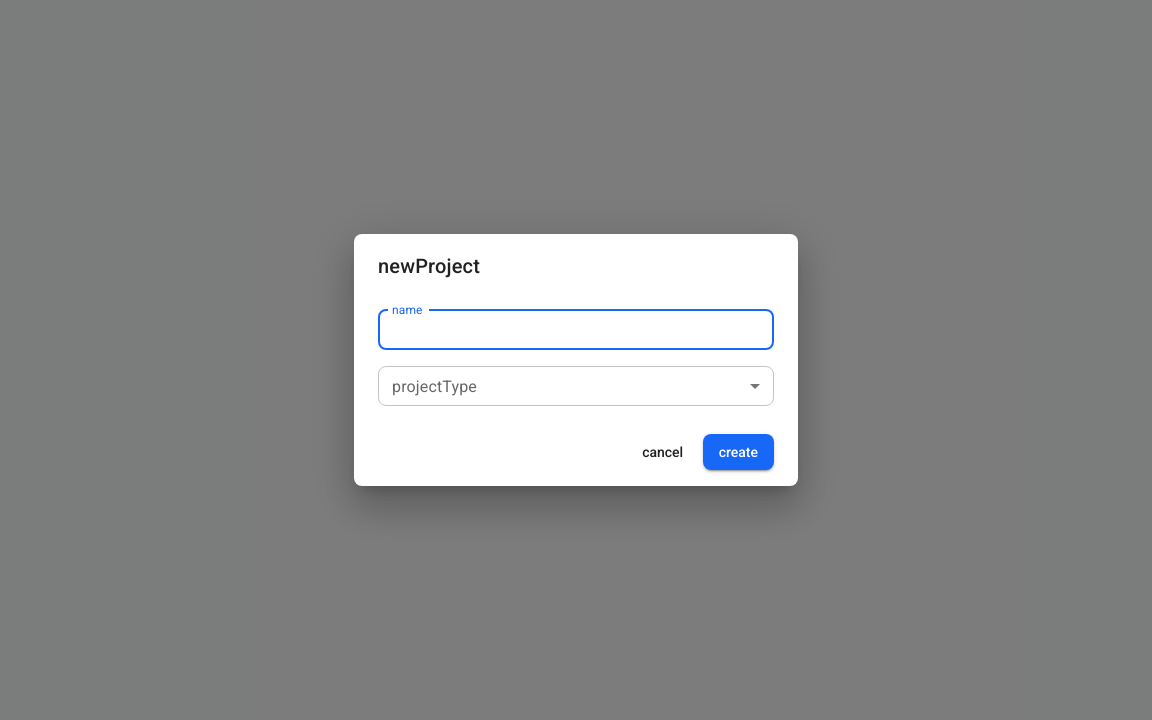
Scenario: CreateProjectDialog › on success: refreshes the orgs, selects the project, navigates and closes
Type "Shop" into the field labelled "name" at (576, 330), box [378,310,774,350]
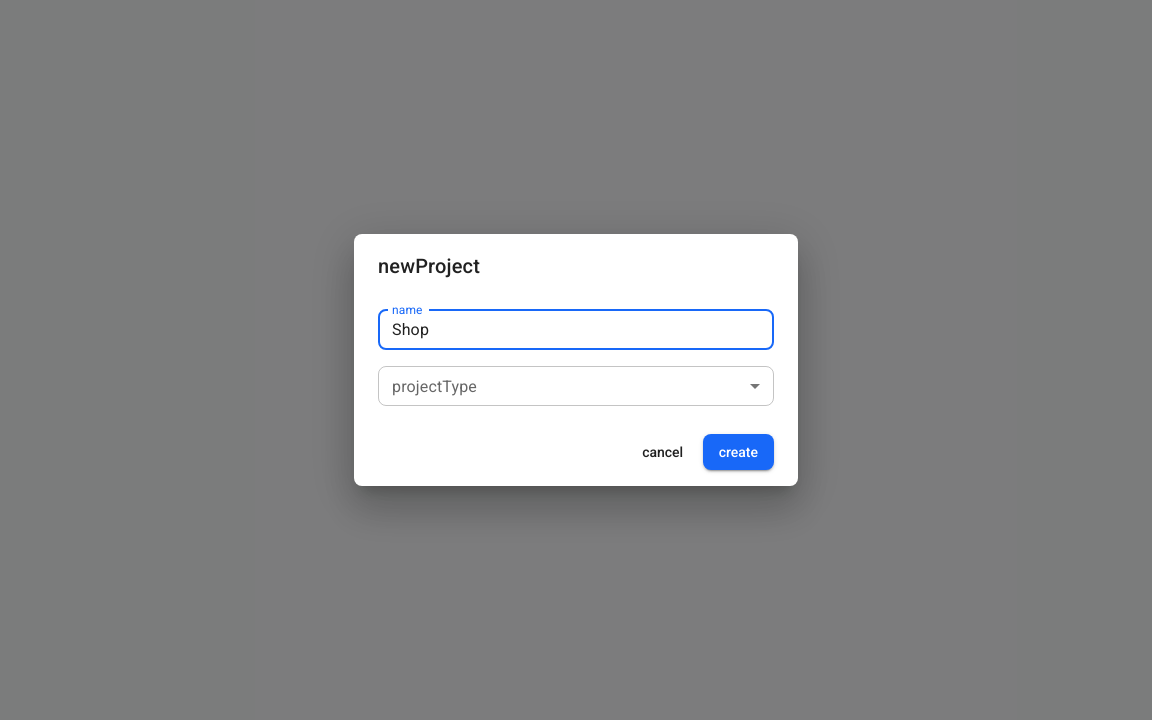
Press the mouse on the dropdown at (576, 386), box [378,366,774,406]
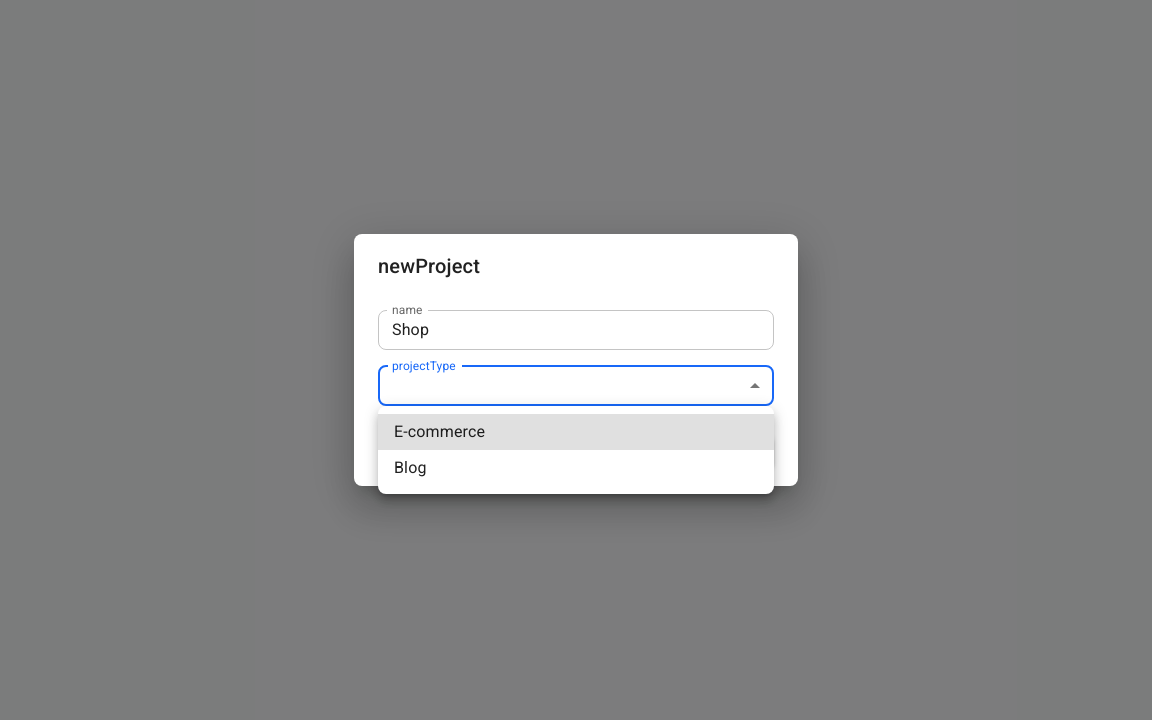
Click the option "Blog" at (410, 468), box [394,458,427,477]
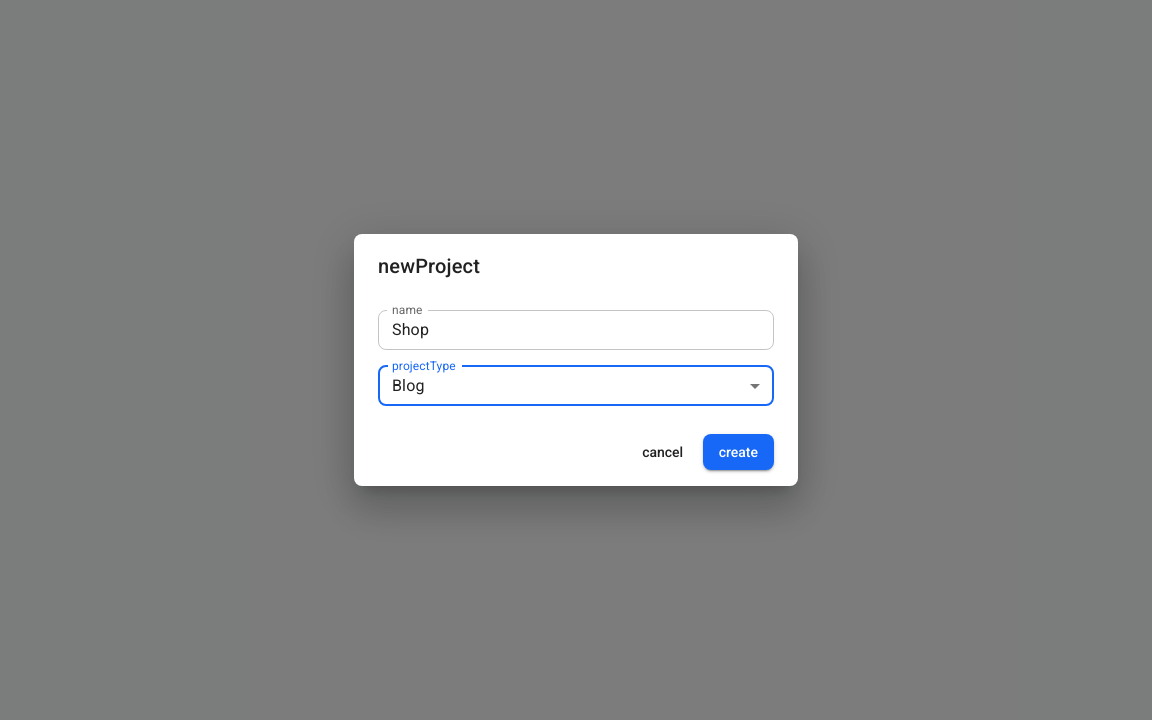
Submit the form "newProject name projectType Blog cancel create", box [354,234,798,486]
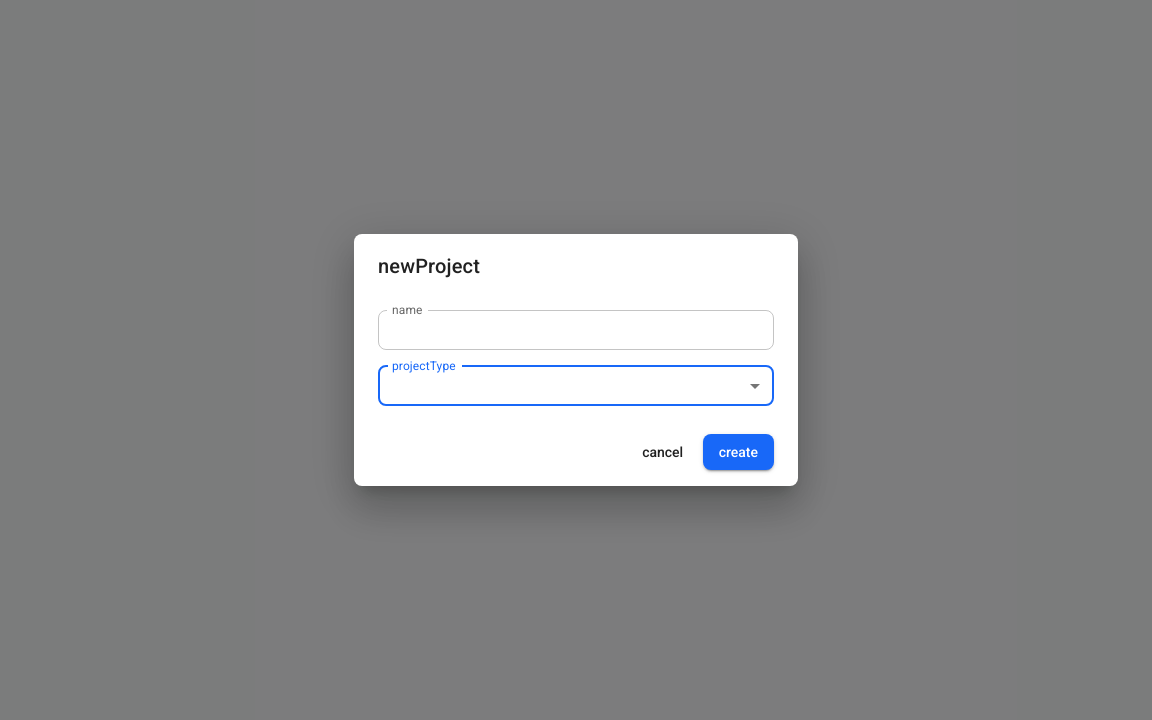
Expected: the field labelled "name" is empty, [378,310,774,350]
